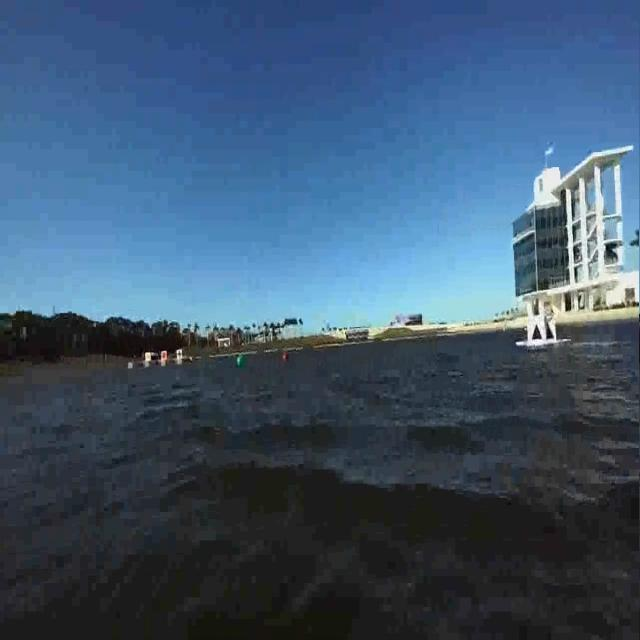green-buoy: (237, 353, 247, 368)
red-buoy: (283, 352, 288, 362)
